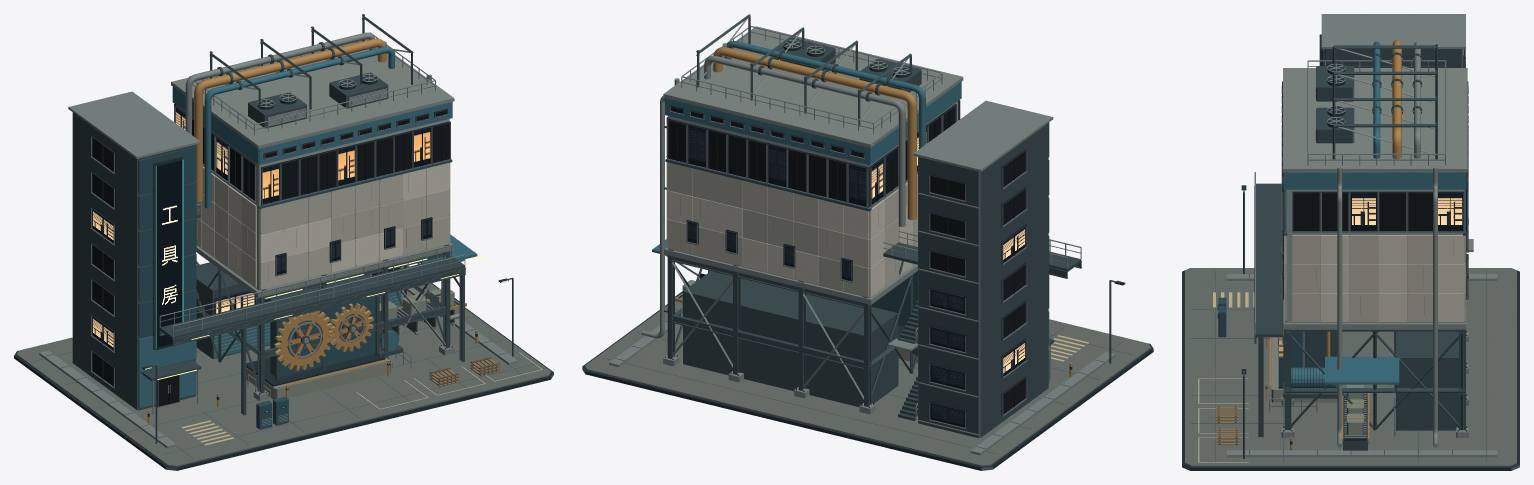
File: tools.glb
3 renders of one model, left to right at view 1: azimuth 30°, elevation 25°; view 2: azimuth 150°, elevation 25°; view 3: azimuth 270°, elevation 25°, orthographic. The views are drawn at different scales.
Visible parts, largest first — view 1: elevated_panelled_production_hall, service_core_and_pedestrian_entry, building_apron, rooftop_plant_and_pipe_racks, skywalks_and_maintenance_decks, exposed_structural_frame, gear_transmission_bay, vertical_led, fabrication_workshop_and_conveyor, yard_details, drive_gear_24, drive_gear_18; view 2: elevated_panelled_production_hall, service_core_and_pedestrian_entry, building_apron, fabrication_workshop_and_conveyor, rooftop_plant_and_pipe_racks, exposed_structural_frame, skywalks_and_maintenance_decks, gear_transmission_bay; view 3: elevated_panelled_production_hall, building_apron, rooftop_plant_and_pipe_racks, fabrication_workshop_and_conveyor, service_core_and_pedestrian_entry, exposed_structural_frame, skywalks_and_maintenance_decks, gear_transmission_bay, yard_details.
Boxes of the visible parts, <box> form: elevated_panelled_production_hall: <box>171,39,454,290</box>; service_core_and_pedestrian_entry: <box>68,91,201,415</box>; building_apron: <box>14,265,553,470</box>; rooftop_plant_and_pipe_racks: <box>185,14,459,319</box>; skywalks_and_maintenance_decks: <box>159,204,465,415</box>; exposed_structural_frame: <box>196,242,454,400</box>; gear_transmission_bay: <box>246,274,411,401</box>; vertical_led: <box>153,156,183,350</box>; fabrication_workshop_and_conveyor: <box>196,234,484,359</box>; yard_details: <box>142,277,513,443</box>; drive_gear_24: <box>274,310,333,370</box>; drive_gear_18: <box>329,303,373,351</box>; elevated_panelled_production_hall: <box>663,26,963,297</box>; service_core_and_pedestrian_entry: <box>888,100,1054,438</box>; building_apron: <box>582,301,1153,470</box>; fabrication_workshop_and_conveyor: <box>652,239,898,406</box>; rooftop_plant_and_pipe_racks: <box>641,14,942,338</box>; exposed_structural_frame: <box>663,247,917,414</box>; skywalks_and_maintenance_decks: <box>883,230,1081,278</box>; gear_transmission_bay: <box>871,271,917,363</box>; elevated_panelled_production_hall: <box>1281,68,1468,322</box>; building_apron: <box>1182,268,1519,470</box>; rooftop_plant_and_pipe_racks: <box>1307,40,1446,447</box>; fabrication_workshop_and_conveyor: <box>1325,331,1458,450</box>; service_core_and_pedestrian_entry: <box>1321,14,1473,251</box>; exposed_structural_frame: <box>1281,235,1468,437</box>; skywalks_and_maintenance_decks: <box>1254,172,1284,437</box>; gear_transmission_bay: <box>1265,329,1337,412</box>; yard_details: <box>1216,185,1292,458</box>.
Size of the model in its own units: 42 by 30.34 by 30.
2 materials, 2 textured.
